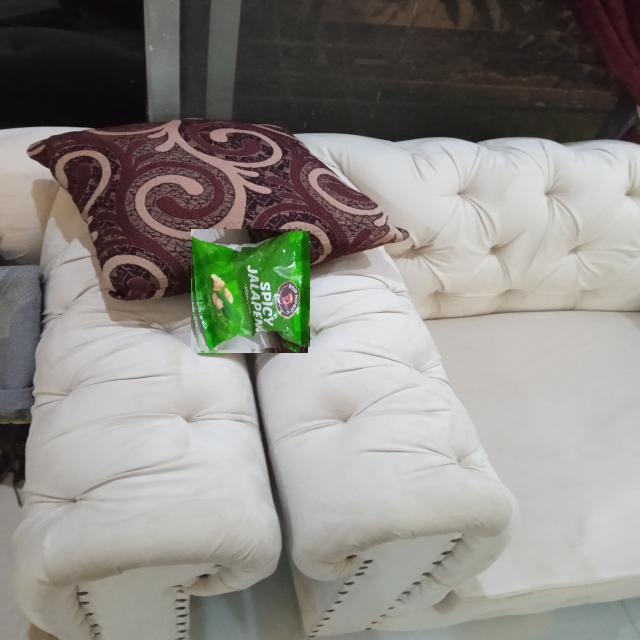Plastic: (188, 231, 310, 351)
